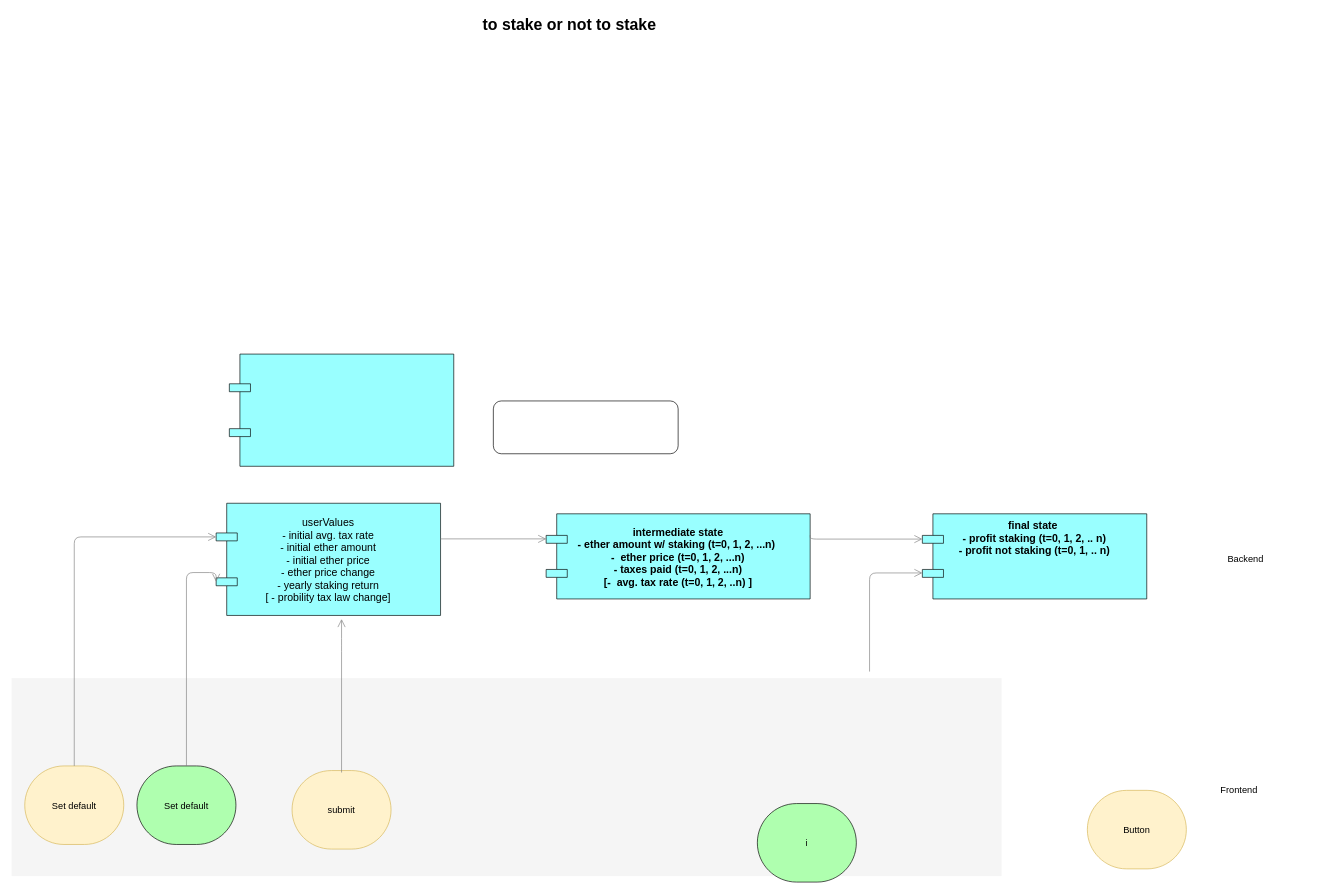
Image size: 1336x894. Some labels were removed from this diagram. The box of each missing label's shape, as (x1, y1, x2, y2) in pixels:
fixed values freibetrag: 256 euro pro jahr fixed cost per year: 200: (229, 353, 454, 466)
Optional: re-estimate tax rate apply tax rate yearly: (493, 400, 678, 454)
